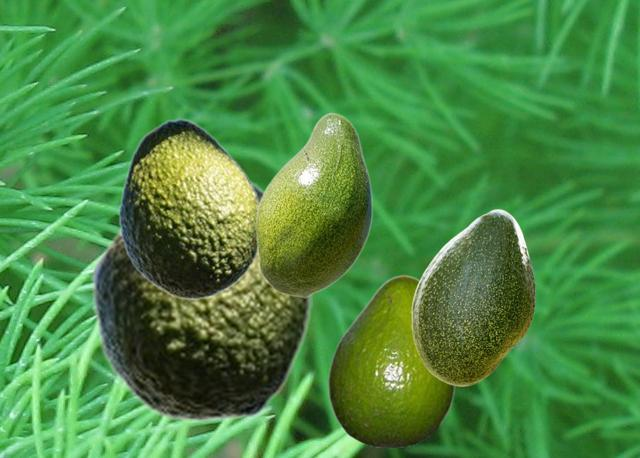avocado: (90, 176, 311, 421), (117, 118, 260, 299), (327, 274, 454, 446), (411, 209, 534, 385), (255, 112, 372, 297)
